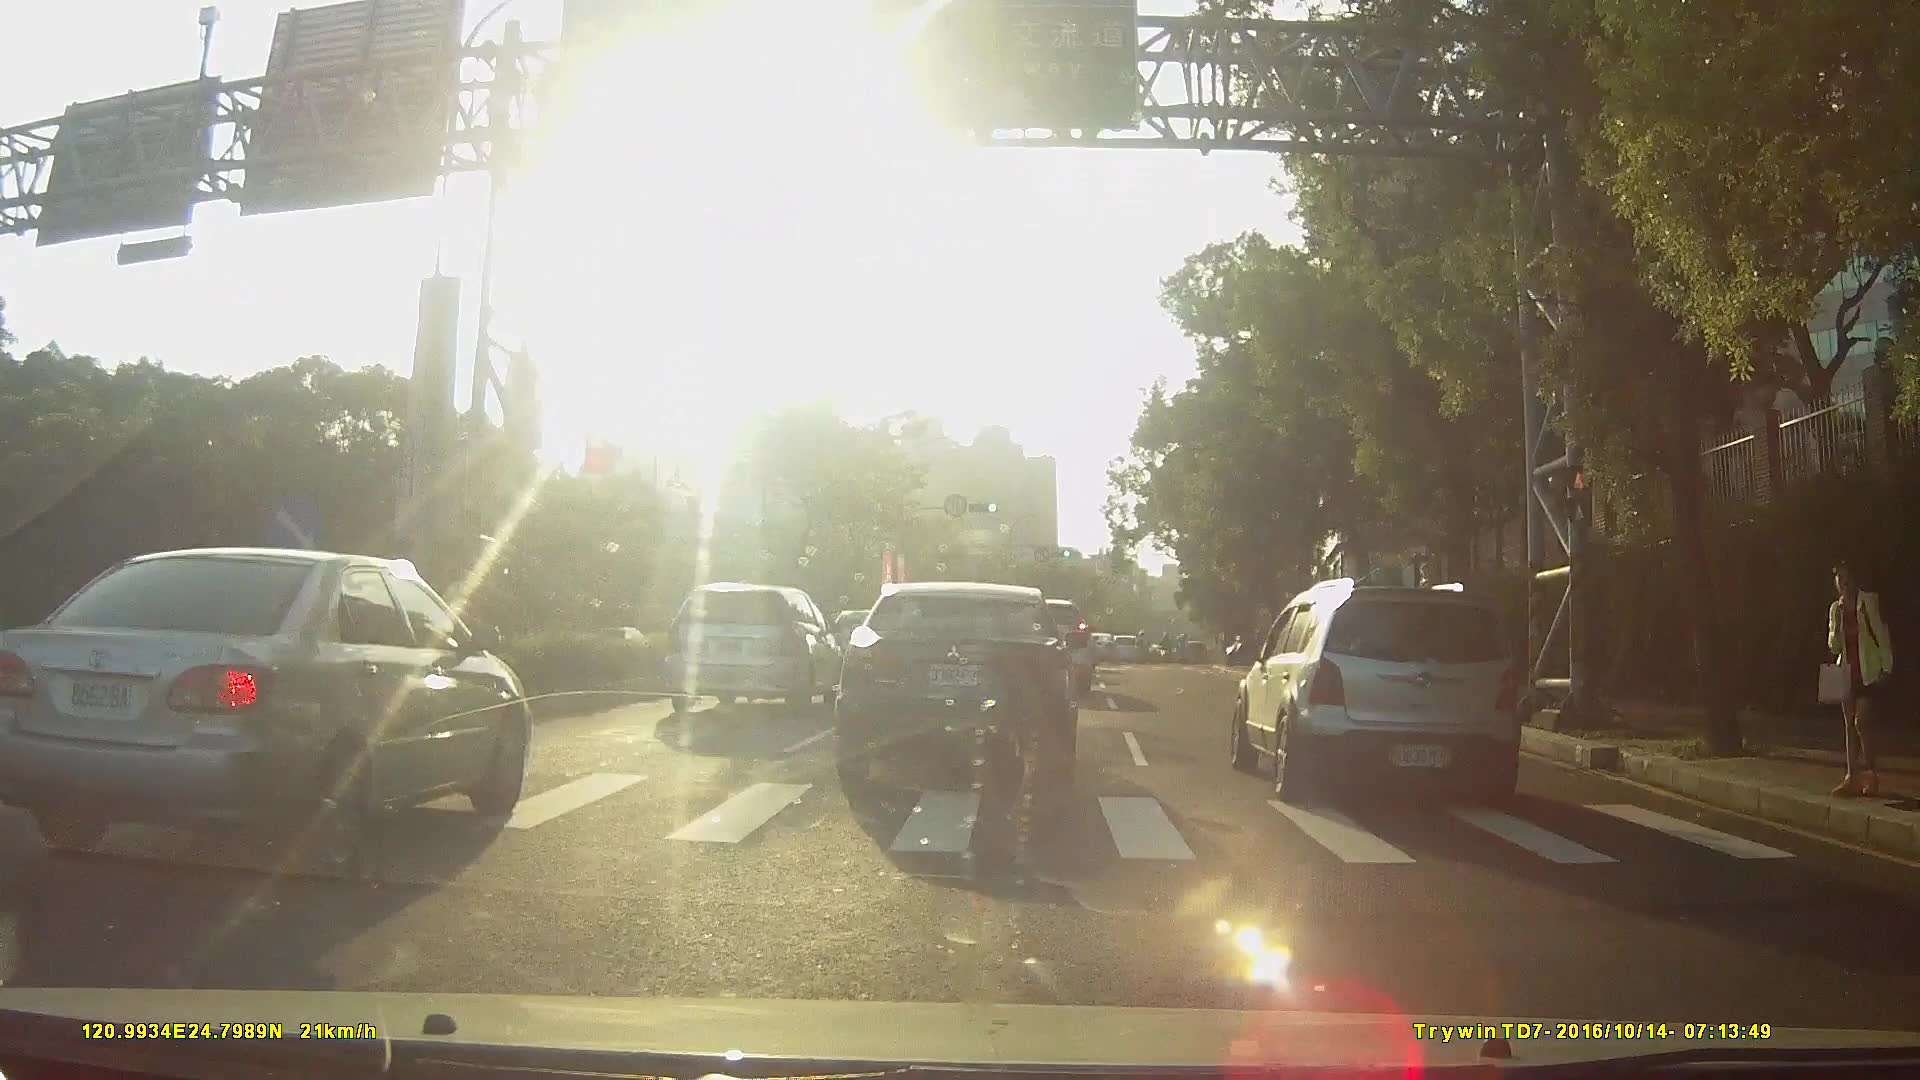pedestrian: (1815, 557, 1895, 801)
vehicle: (1, 547, 553, 892), (1214, 575, 1545, 818), (841, 591, 1094, 801), (654, 587, 842, 720), (1079, 635, 1114, 670), (1102, 639, 1137, 670)
